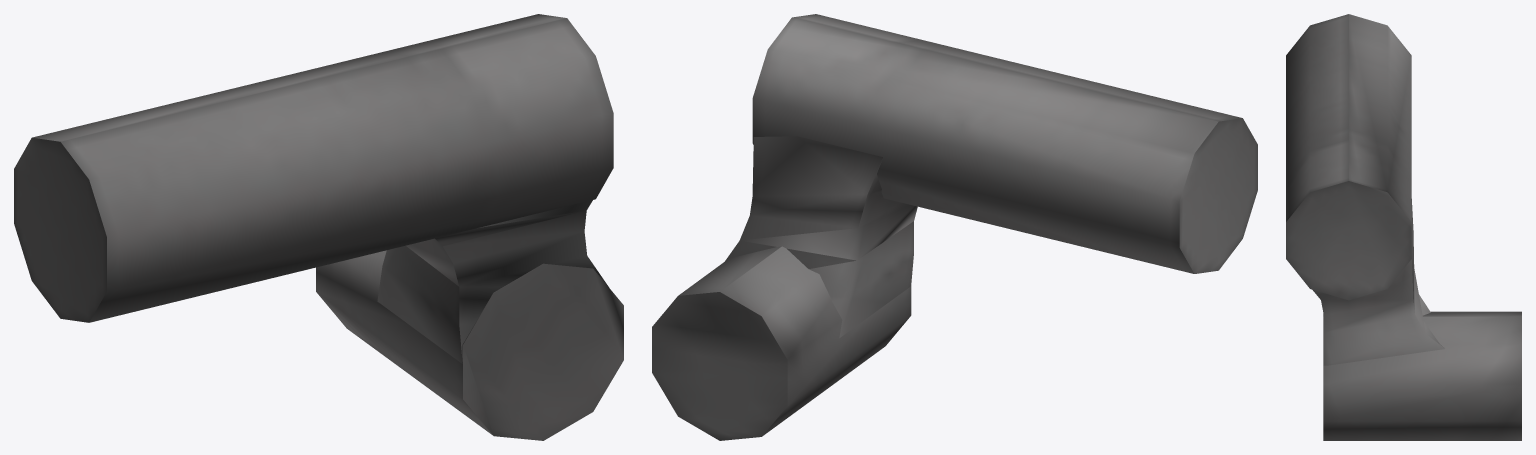
Rendered from l_lglut.dae.
3 views of the same model, side by side, from view 1: azimuth 30°, elevation 25°; view 2: azimuth 150°, elevation 25°; view 3: azimuth 270°, elevation 25° (orthographic). The views are drawn at different scales.
Parts seen in each view (by area): view 1: p41995_1, p41959_1, p41903_1, p41943_1; view 2: p41995_1, p41959_1, p41903_1, p41943_1; view 3: p41995_1, p41959_1, p41943_1, p41903_1.
Part boxes in pixels (x1,y1,x2,y2): p41995_1: (32,14,613,322); p41959_1: (316,250,623,440); p41903_1: (377,200,608,363); p41943_1: (14,137,106,322); p41995_1: (752,14,1242,273); p41959_1: (652,246,911,440); p41903_1: (725,136,917,337); p41943_1: (1179,118,1257,273); p41995_1: (1286,14,1411,221); p41959_1: (1323,311,1521,440); p41943_1: (1286,181,1411,300); p41903_1: (1313,199,1444,365).
Size of the model in its own units: 0.129 by 0.0716 by 0.0902.
